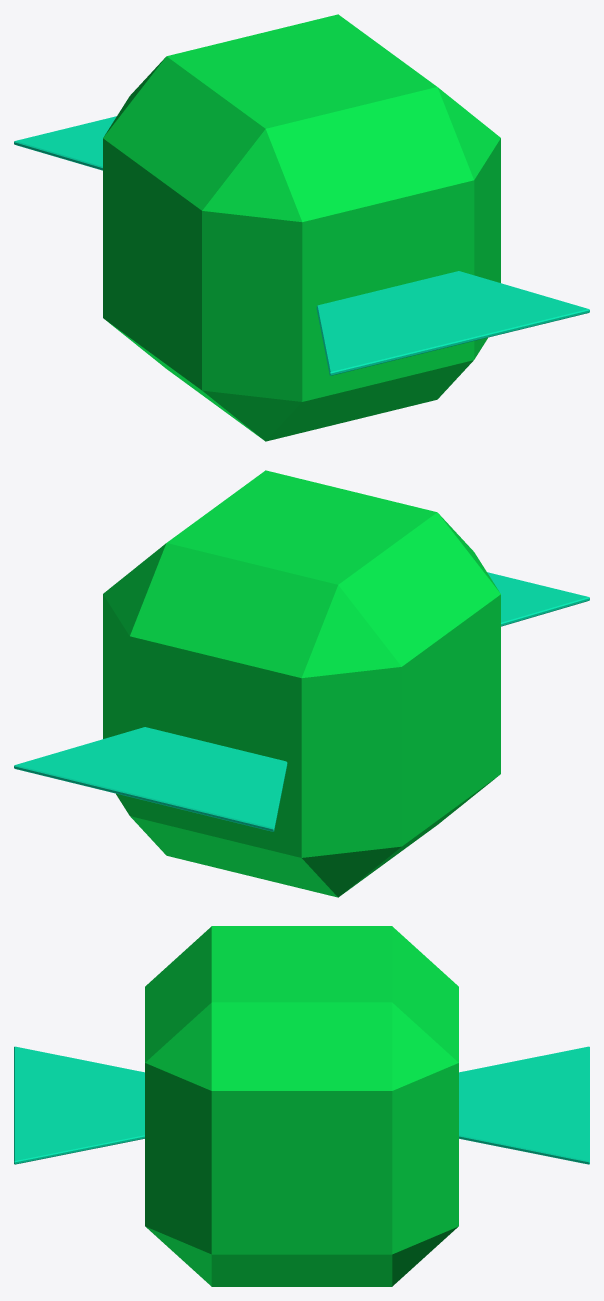
The model's file is data_sprite.glb.
3 renders of one model, top to bottom at view 1: azimuth 30°, elevation 25°; view 2: azimuth 150°, elevation 25°; view 3: azimuth 270°, elevation 25°, orthographic. The views are drawn at different scales.
Visible parts, largest first — view 1: Body, Wing1, Wing2; view 2: Body, Wing2, Wing1; view 3: Body, Wing1, Wing2.
Boxes of the visible parts, x1=… form: Body: x1=103, y1=14, x2=500, y2=441; Wing1: x1=316, y1=271, x2=589, y2=375; Wing2: x1=14, y1=116, x2=116, y2=170; Body: x1=103, y1=470, x2=500, y2=897; Wing2: x1=14, y1=727, x2=287, y2=831; Wing1: x1=487, y1=572, x2=589, y2=626; Body: x1=145, y1=926, x2=458, y2=1286; Wing1: x1=14, y1=1046, x2=144, y2=1164; Wing2: x1=459, y1=1046, x2=589, y2=1164.
Bounding box in the file's own units: 0.6 × 0.6 × 1.1.
